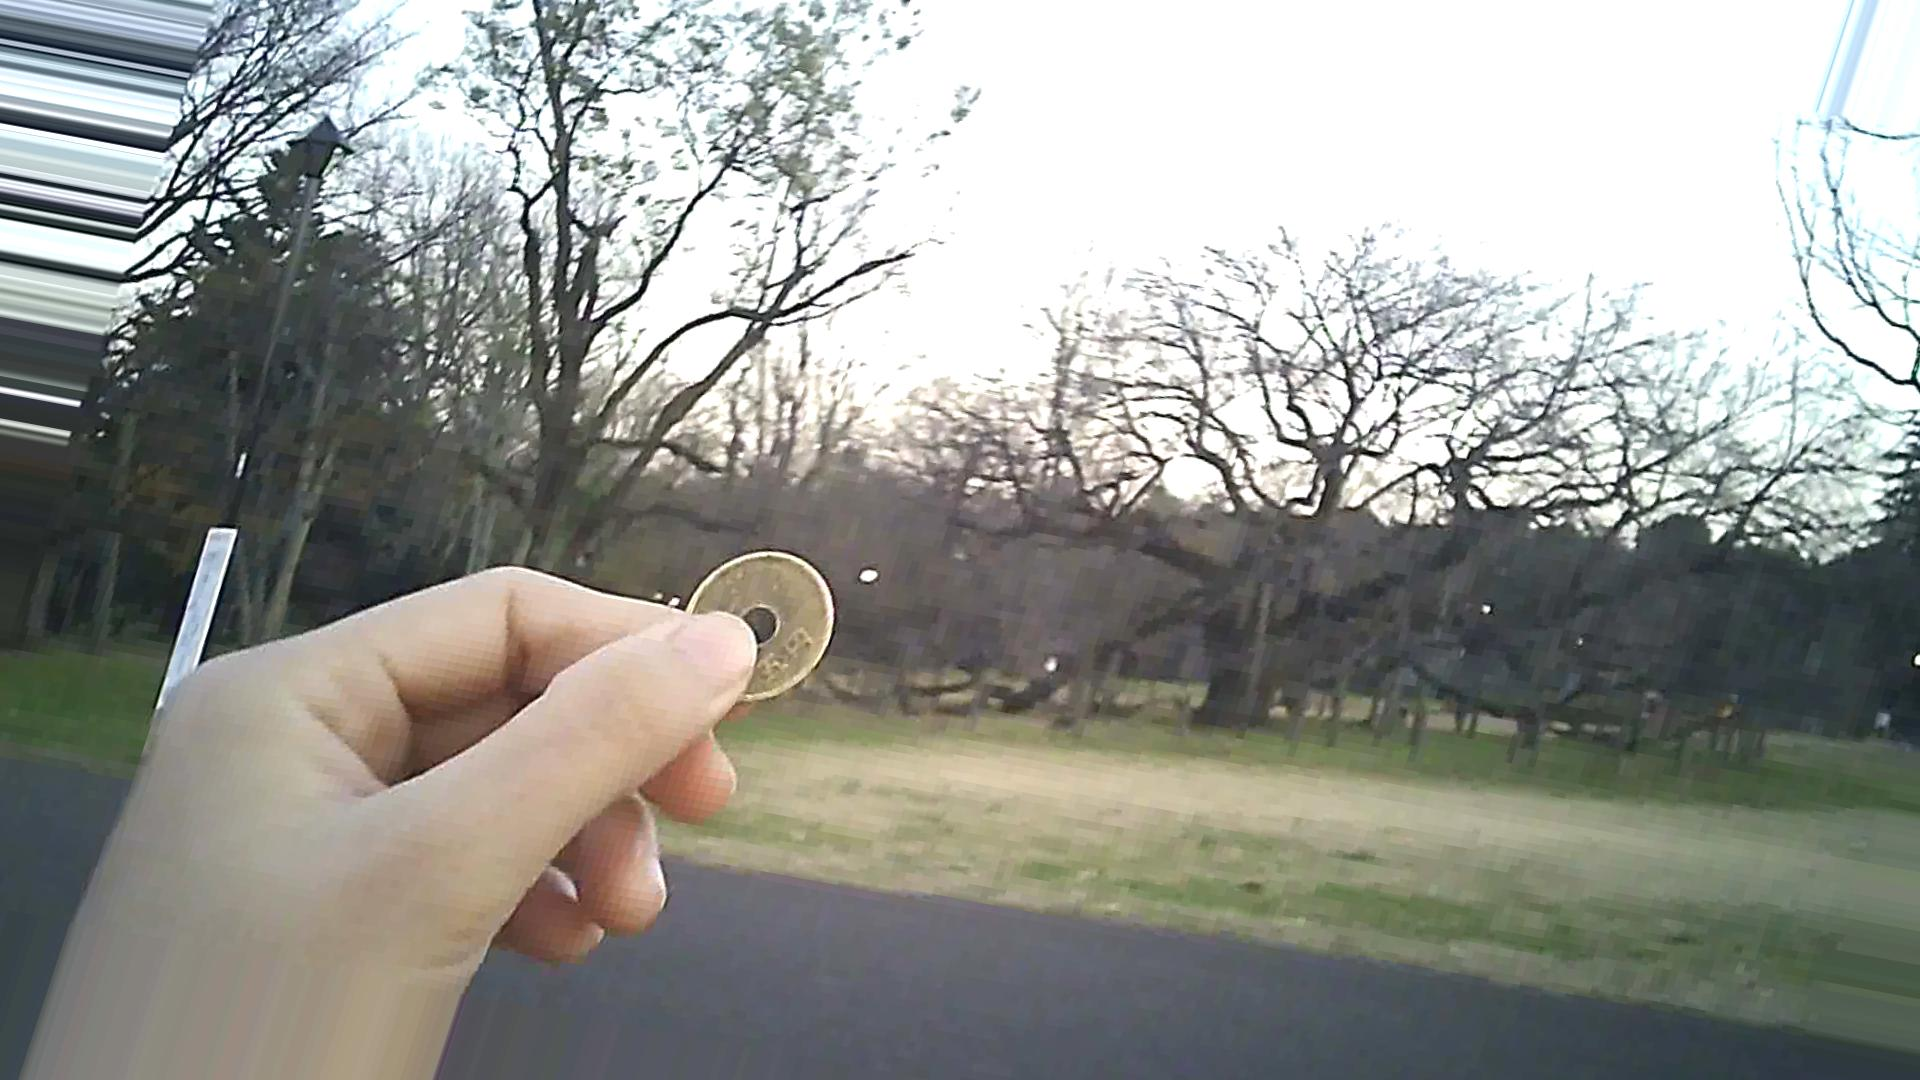5 Yen: (675, 547, 848, 709)
